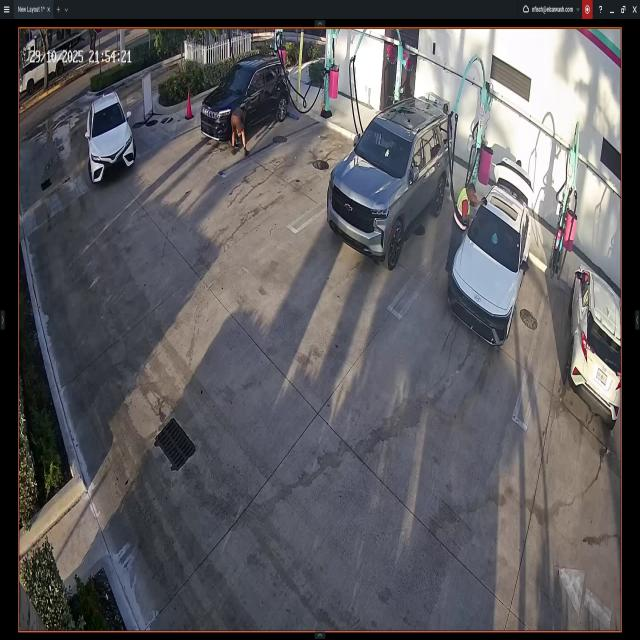Car: (326, 95, 452, 266), (449, 157, 534, 343), (200, 53, 290, 155), (571, 273, 621, 419), (86, 92, 136, 186)
